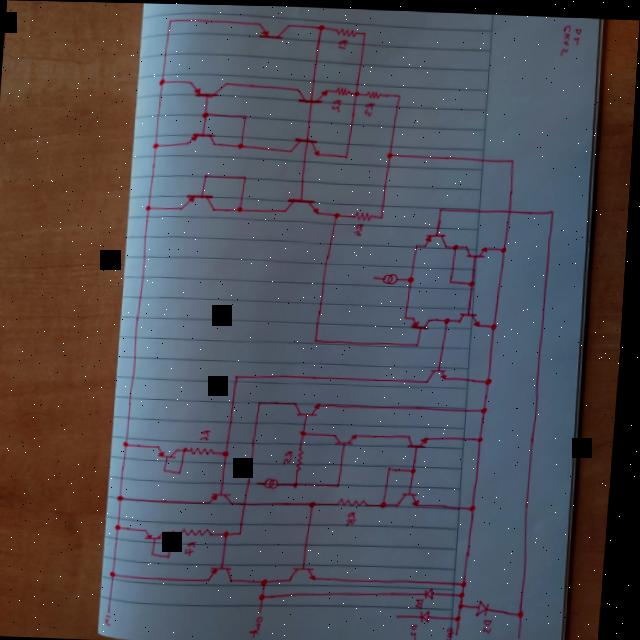crossover: (506, 204, 514, 213), (245, 500, 252, 506)
diode: (480, 596, 495, 615), (425, 607, 437, 620), (430, 585, 441, 598)
junction: (311, 498, 322, 508), (265, 576, 275, 585), (224, 448, 234, 457), (156, 76, 166, 85), (459, 610, 468, 620), (482, 403, 491, 412), (118, 521, 127, 530), (408, 273, 417, 282), (151, 140, 161, 148), (522, 606, 530, 615), (491, 320, 500, 328), (236, 140, 245, 148), (200, 109, 209, 117), (227, 528, 235, 537), (479, 432, 488, 440), (384, 498, 392, 507), (501, 242, 509, 251), (314, 333, 323, 341), (114, 569, 122, 578), (412, 464, 421, 472), (315, 21, 324, 29), (237, 203, 245, 211), (473, 501, 481, 509), (264, 591, 272, 599), (386, 148, 394, 156), (145, 202, 153, 210), (487, 375, 495, 383), (121, 493, 129, 501), (470, 277, 478, 285), (258, 397, 266, 405), (334, 209, 342, 216), (241, 172, 249, 179), (165, 16, 172, 24), (463, 599, 470, 607), (241, 528, 249, 535), (509, 154, 516, 162), (235, 372, 243, 379), (352, 88, 360, 95), (438, 203, 445, 210), (549, 205, 556, 212), (202, 171, 210, 177), (127, 439, 133, 447), (445, 315, 453, 321), (303, 428, 311, 434), (343, 151, 350, 157), (339, 480, 346, 486), (175, 528, 181, 535), (453, 242, 460, 248), (242, 112, 248, 118), (379, 211, 385, 217), (417, 339, 423, 345), (391, 462, 397, 468), (395, 91, 401, 97), (360, 28, 366, 34), (186, 445, 192, 451), (467, 578, 471, 585), (465, 590, 470, 595), (172, 553, 176, 557), (450, 277, 454, 281), (182, 469, 186, 473), (156, 551, 160, 555), (167, 467, 171, 471), (405, 313, 409, 317)
resistor: (340, 493, 374, 507), (182, 525, 219, 537), (297, 444, 310, 470), (334, 25, 356, 36), (193, 445, 219, 454), (353, 209, 375, 219), (333, 84, 350, 95), (364, 88, 381, 98)
terminal: (400, 610, 406, 617), (460, 628, 465, 634), (522, 631, 527, 637), (258, 479, 264, 484), (374, 272, 379, 278), (264, 608, 268, 612), (113, 609, 116, 612)
text: (255, 613, 270, 637), (347, 508, 363, 525), (286, 446, 297, 464), (451, 622, 462, 640), (189, 539, 202, 554), (364, 99, 376, 115), (203, 427, 215, 440), (488, 616, 499, 630), (331, 97, 342, 111), (354, 221, 365, 235), (336, 37, 349, 48), (419, 595, 430, 607), (415, 621, 424, 635), (110, 613, 119, 625)
transformer: (383, 270, 400, 282), (267, 475, 284, 487)
transistor: (253, 15, 293, 43), (188, 75, 227, 98), (283, 194, 322, 216), (180, 190, 218, 211), (289, 133, 321, 156), (295, 85, 329, 104), (295, 397, 326, 417), (187, 127, 218, 145), (212, 563, 241, 582), (427, 364, 454, 382), (422, 230, 450, 247), (293, 564, 321, 581), (400, 487, 425, 506), (335, 429, 362, 446), (409, 431, 436, 448), (212, 490, 238, 507), (458, 308, 482, 325), (466, 242, 491, 256), (148, 527, 173, 541), (160, 444, 182, 458), (412, 314, 433, 327)
